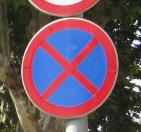No Parking: (23, 18, 120, 118)
